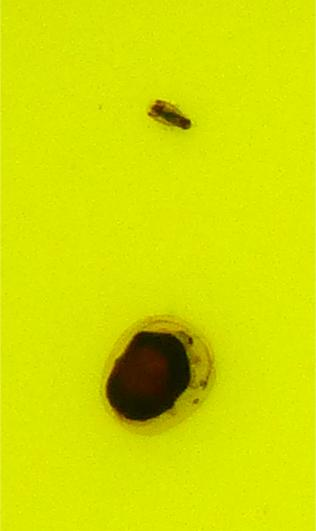Coleoptera: (100, 316, 216, 431)
Hemiptera: (144, 100, 193, 131)
